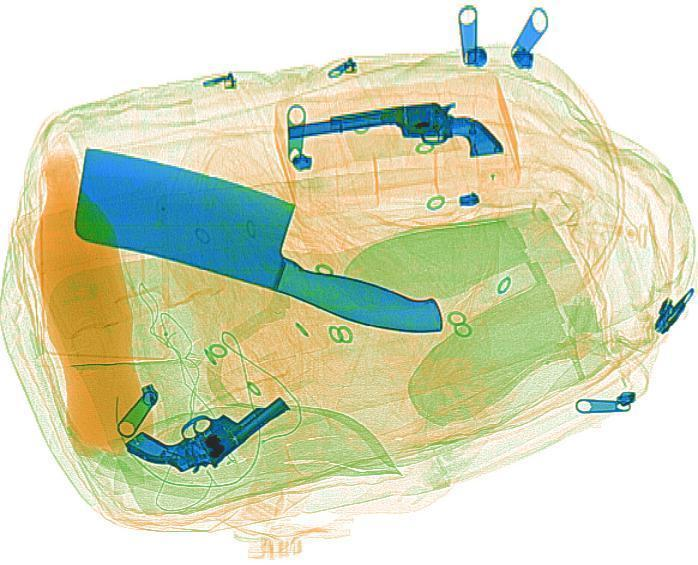Gun: (282, 99, 503, 163), (121, 396, 299, 473)
Knife: (39, 135, 483, 345)
